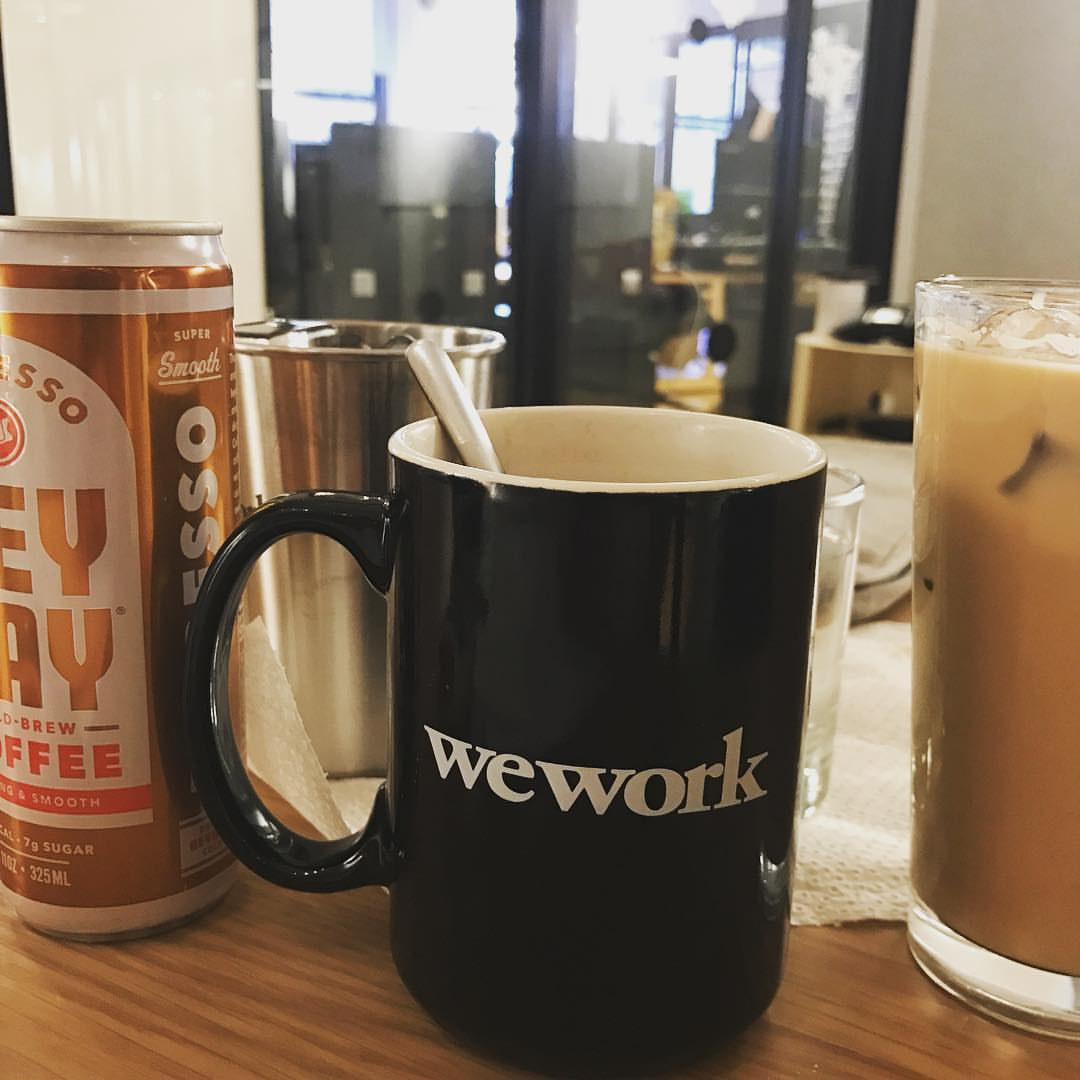wework: (416, 715, 776, 821)
